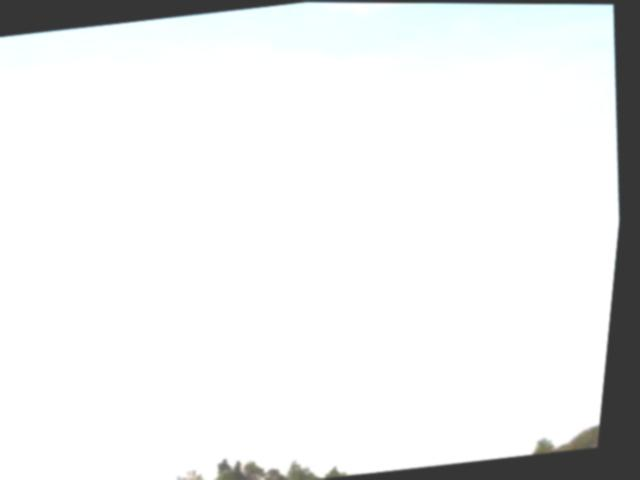uav: (101, 183, 132, 212)
